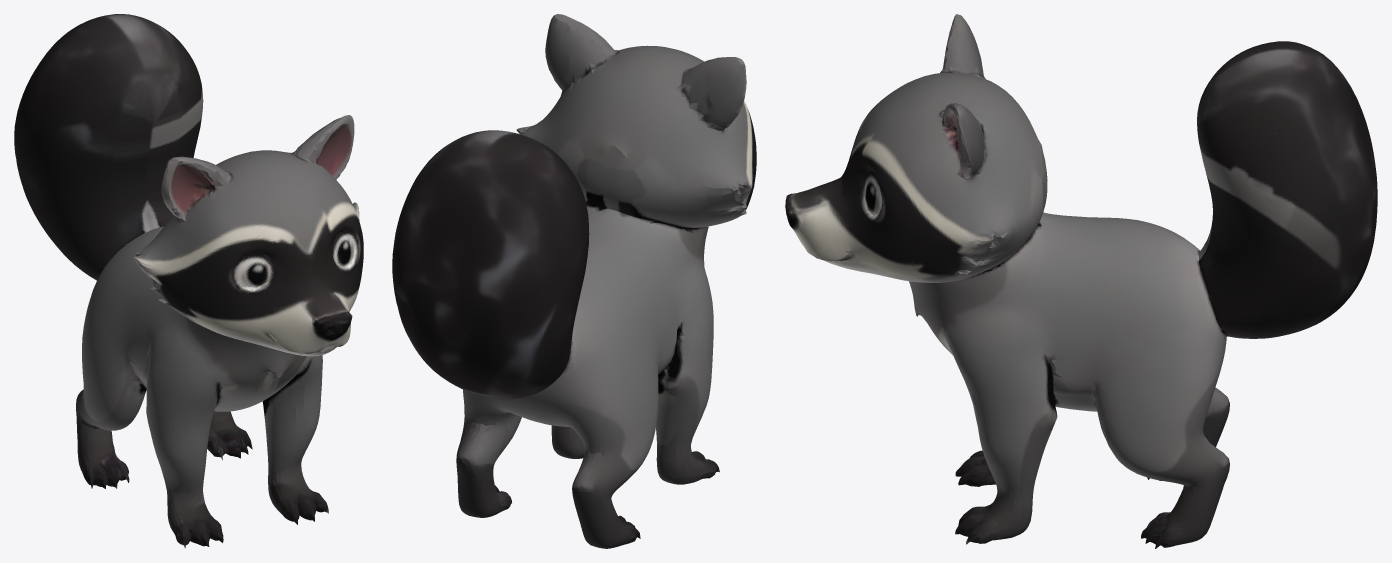
File: raccoon.glb
3 views of the same model, side by side, from view 1: azimuth 30°, elevation 25°; view 2: azimuth 150°, elevation 25°; view 3: azimuth 270°, elevation 25° (orthographic). The views are drawn at different scales.
Visible parts, largest first — view 1: raccoon; view 2: raccoon; view 3: raccoon.
Boxes of the visible parts, x1=… form: raccoon: x1=14, y1=14, x2=363, y2=548; raccoon: x1=392, y1=14, x2=756, y2=548; raccoon: x1=785, y1=14, x2=1377, y2=548.
Size of the model in its own units: 0.9251 by 1.62 by 1.9.
1 material, 1 textured.
